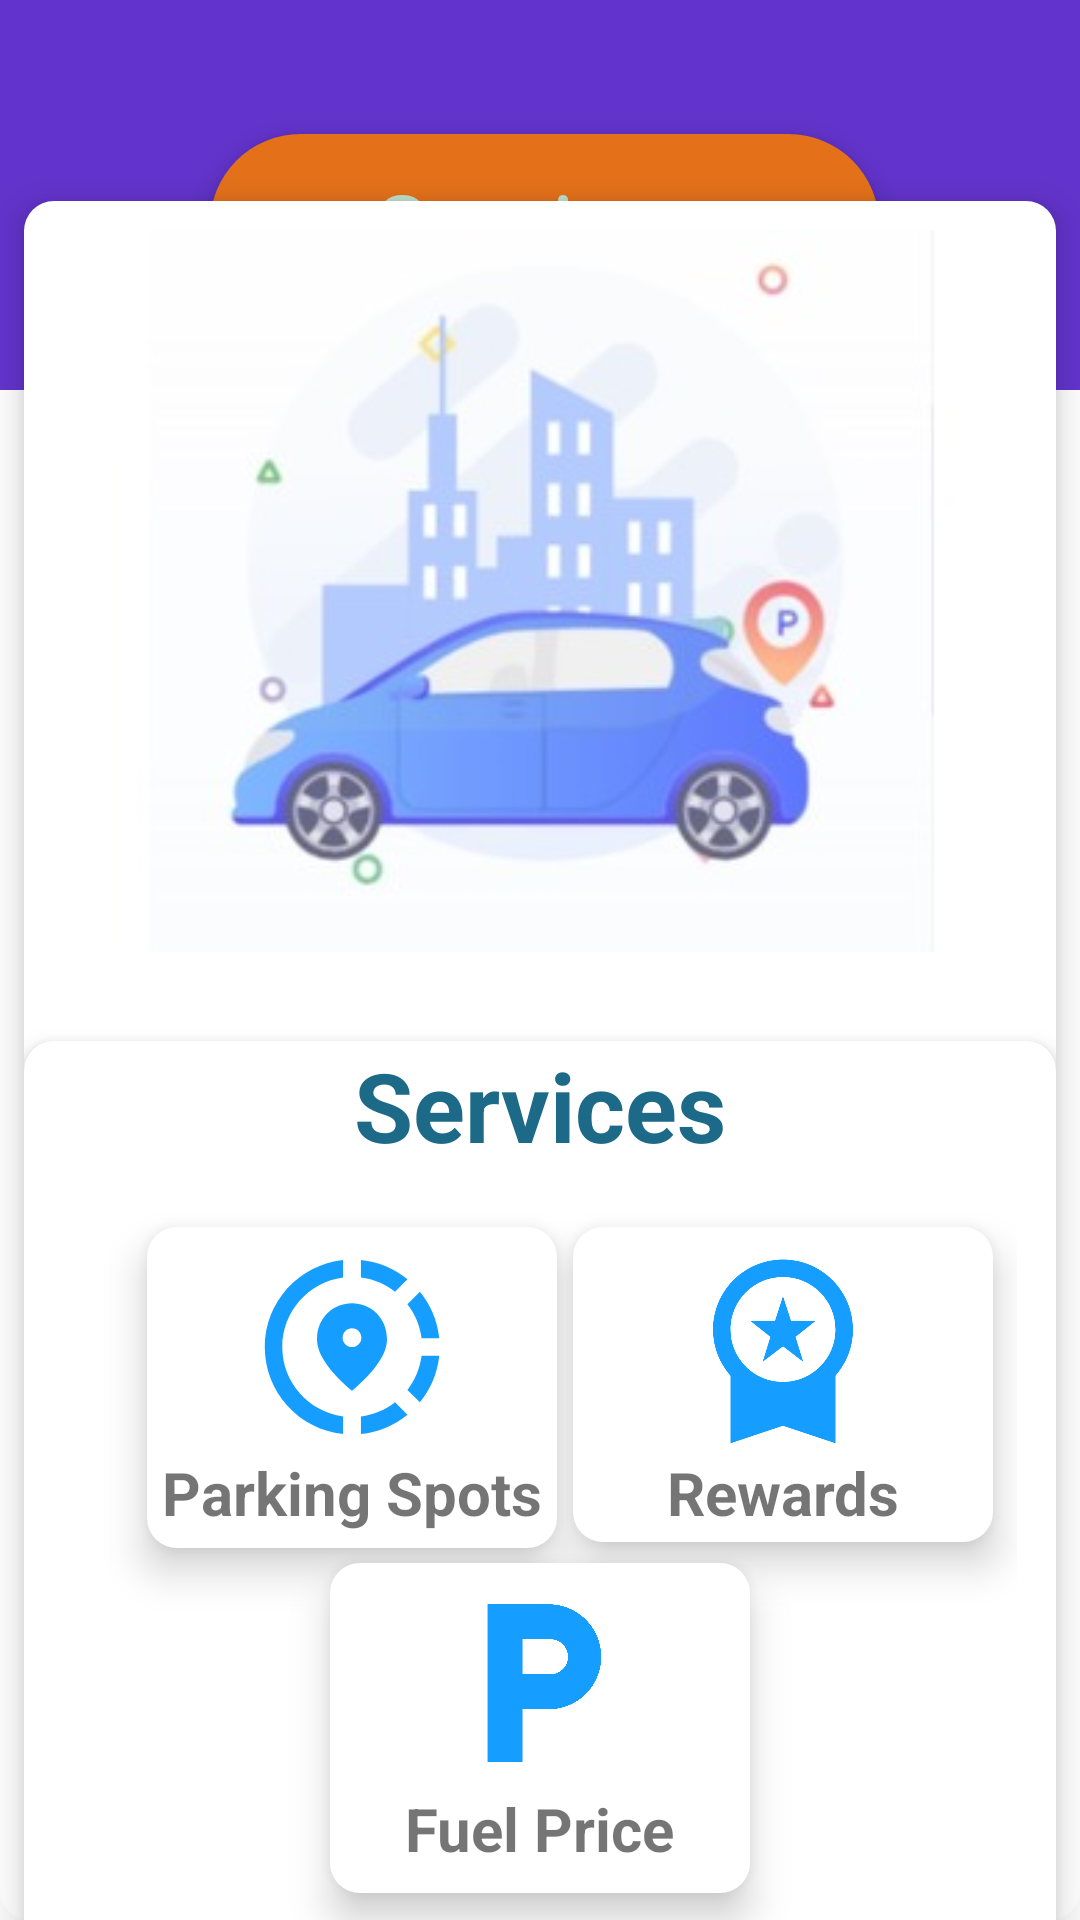

Named icons in this screenshot (1080*1920) and their bounding boxes, bbox=[x1, y1, x2, y2]:
local parking: bbox=[487, 1604, 601, 1762]
share location: bbox=[264, 1260, 440, 1434]
workspace premium: bbox=[713, 1259, 853, 1443]
